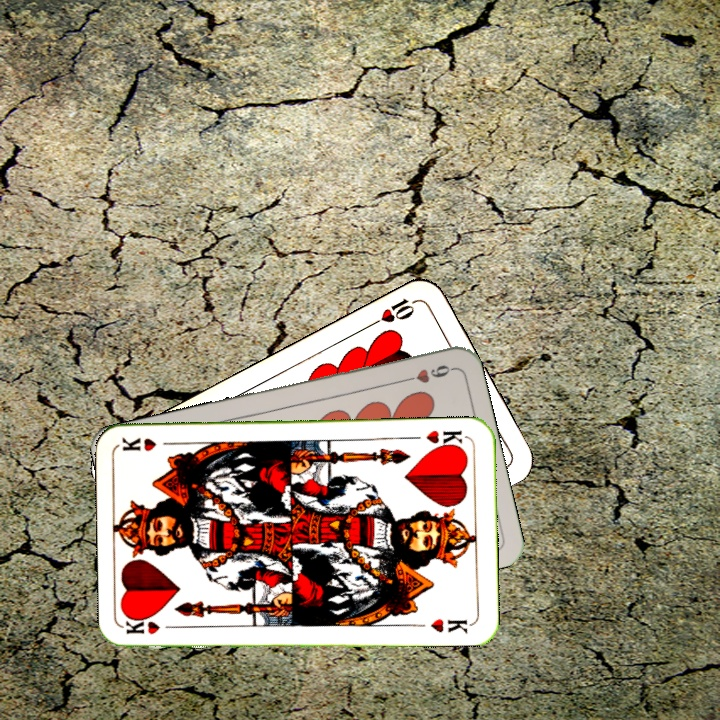H10: (367, 294, 422, 329)
H9: (398, 360, 456, 386)
HK: (123, 616, 182, 637), (422, 426, 469, 452)
